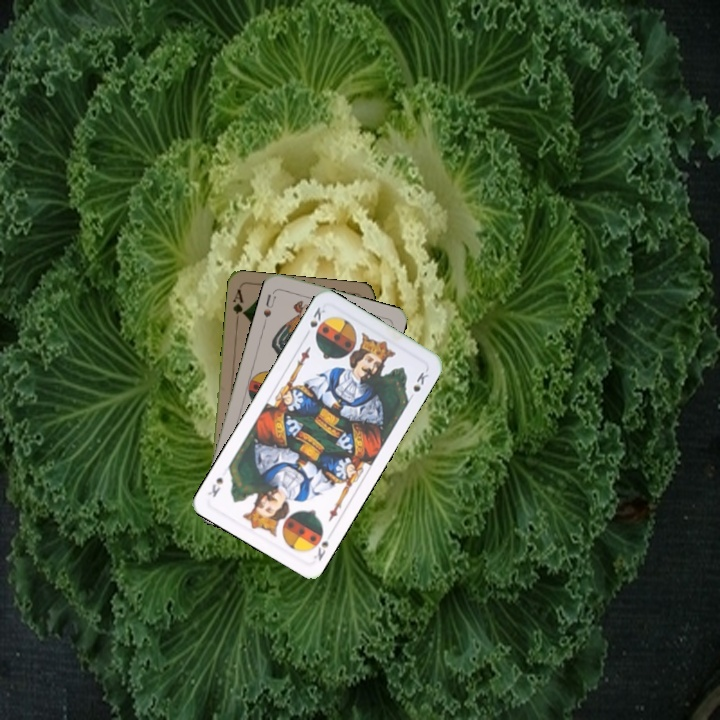GA: (229, 285, 248, 325)
SK: (306, 303, 328, 339), (310, 537, 331, 563)
SU: (259, 287, 278, 327)
